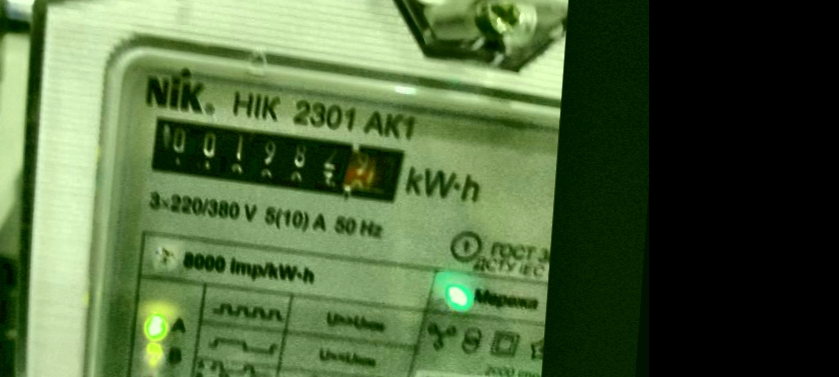0: (197, 127, 216, 157), (167, 122, 185, 152)
1: (229, 129, 243, 159)
2: (318, 139, 338, 169)
8: (288, 137, 306, 167)
9: (349, 147, 371, 176), (257, 134, 274, 164)
screen: (130, 99, 417, 215)
